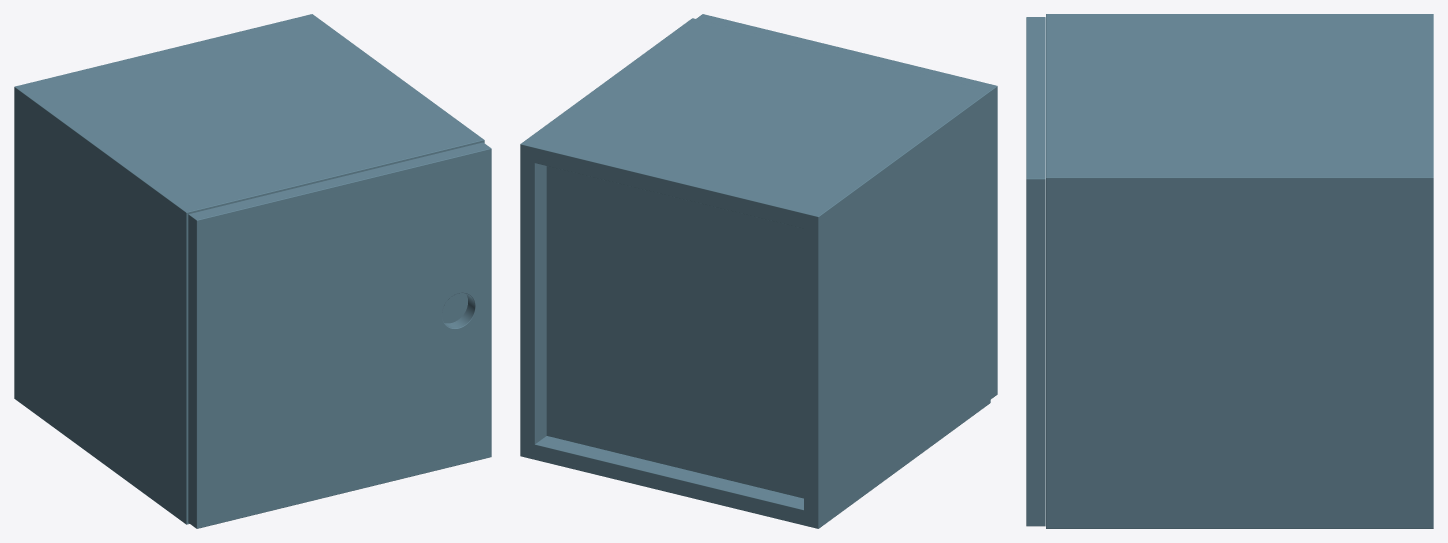
Rendered from MOD-1X1-D-B-DER-AC.glb.
3 renders of one model, left to right at view 1: azimuth 30°, elevation 25°; view 2: azimuth 150°, elevation 25°; view 3: azimuth 270°, elevation 25°, orthographic. The views are drawn at different scales.
Size of the model in its own units: 360 by 360 by 378.
